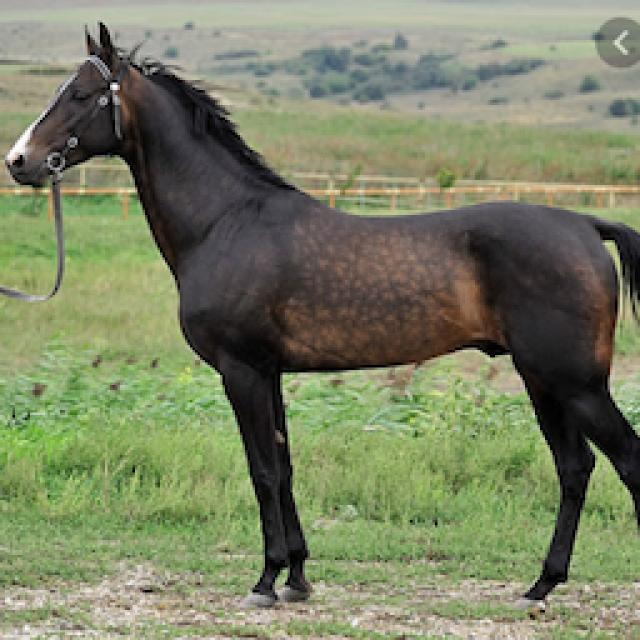Horse: (0, 18, 638, 620)
